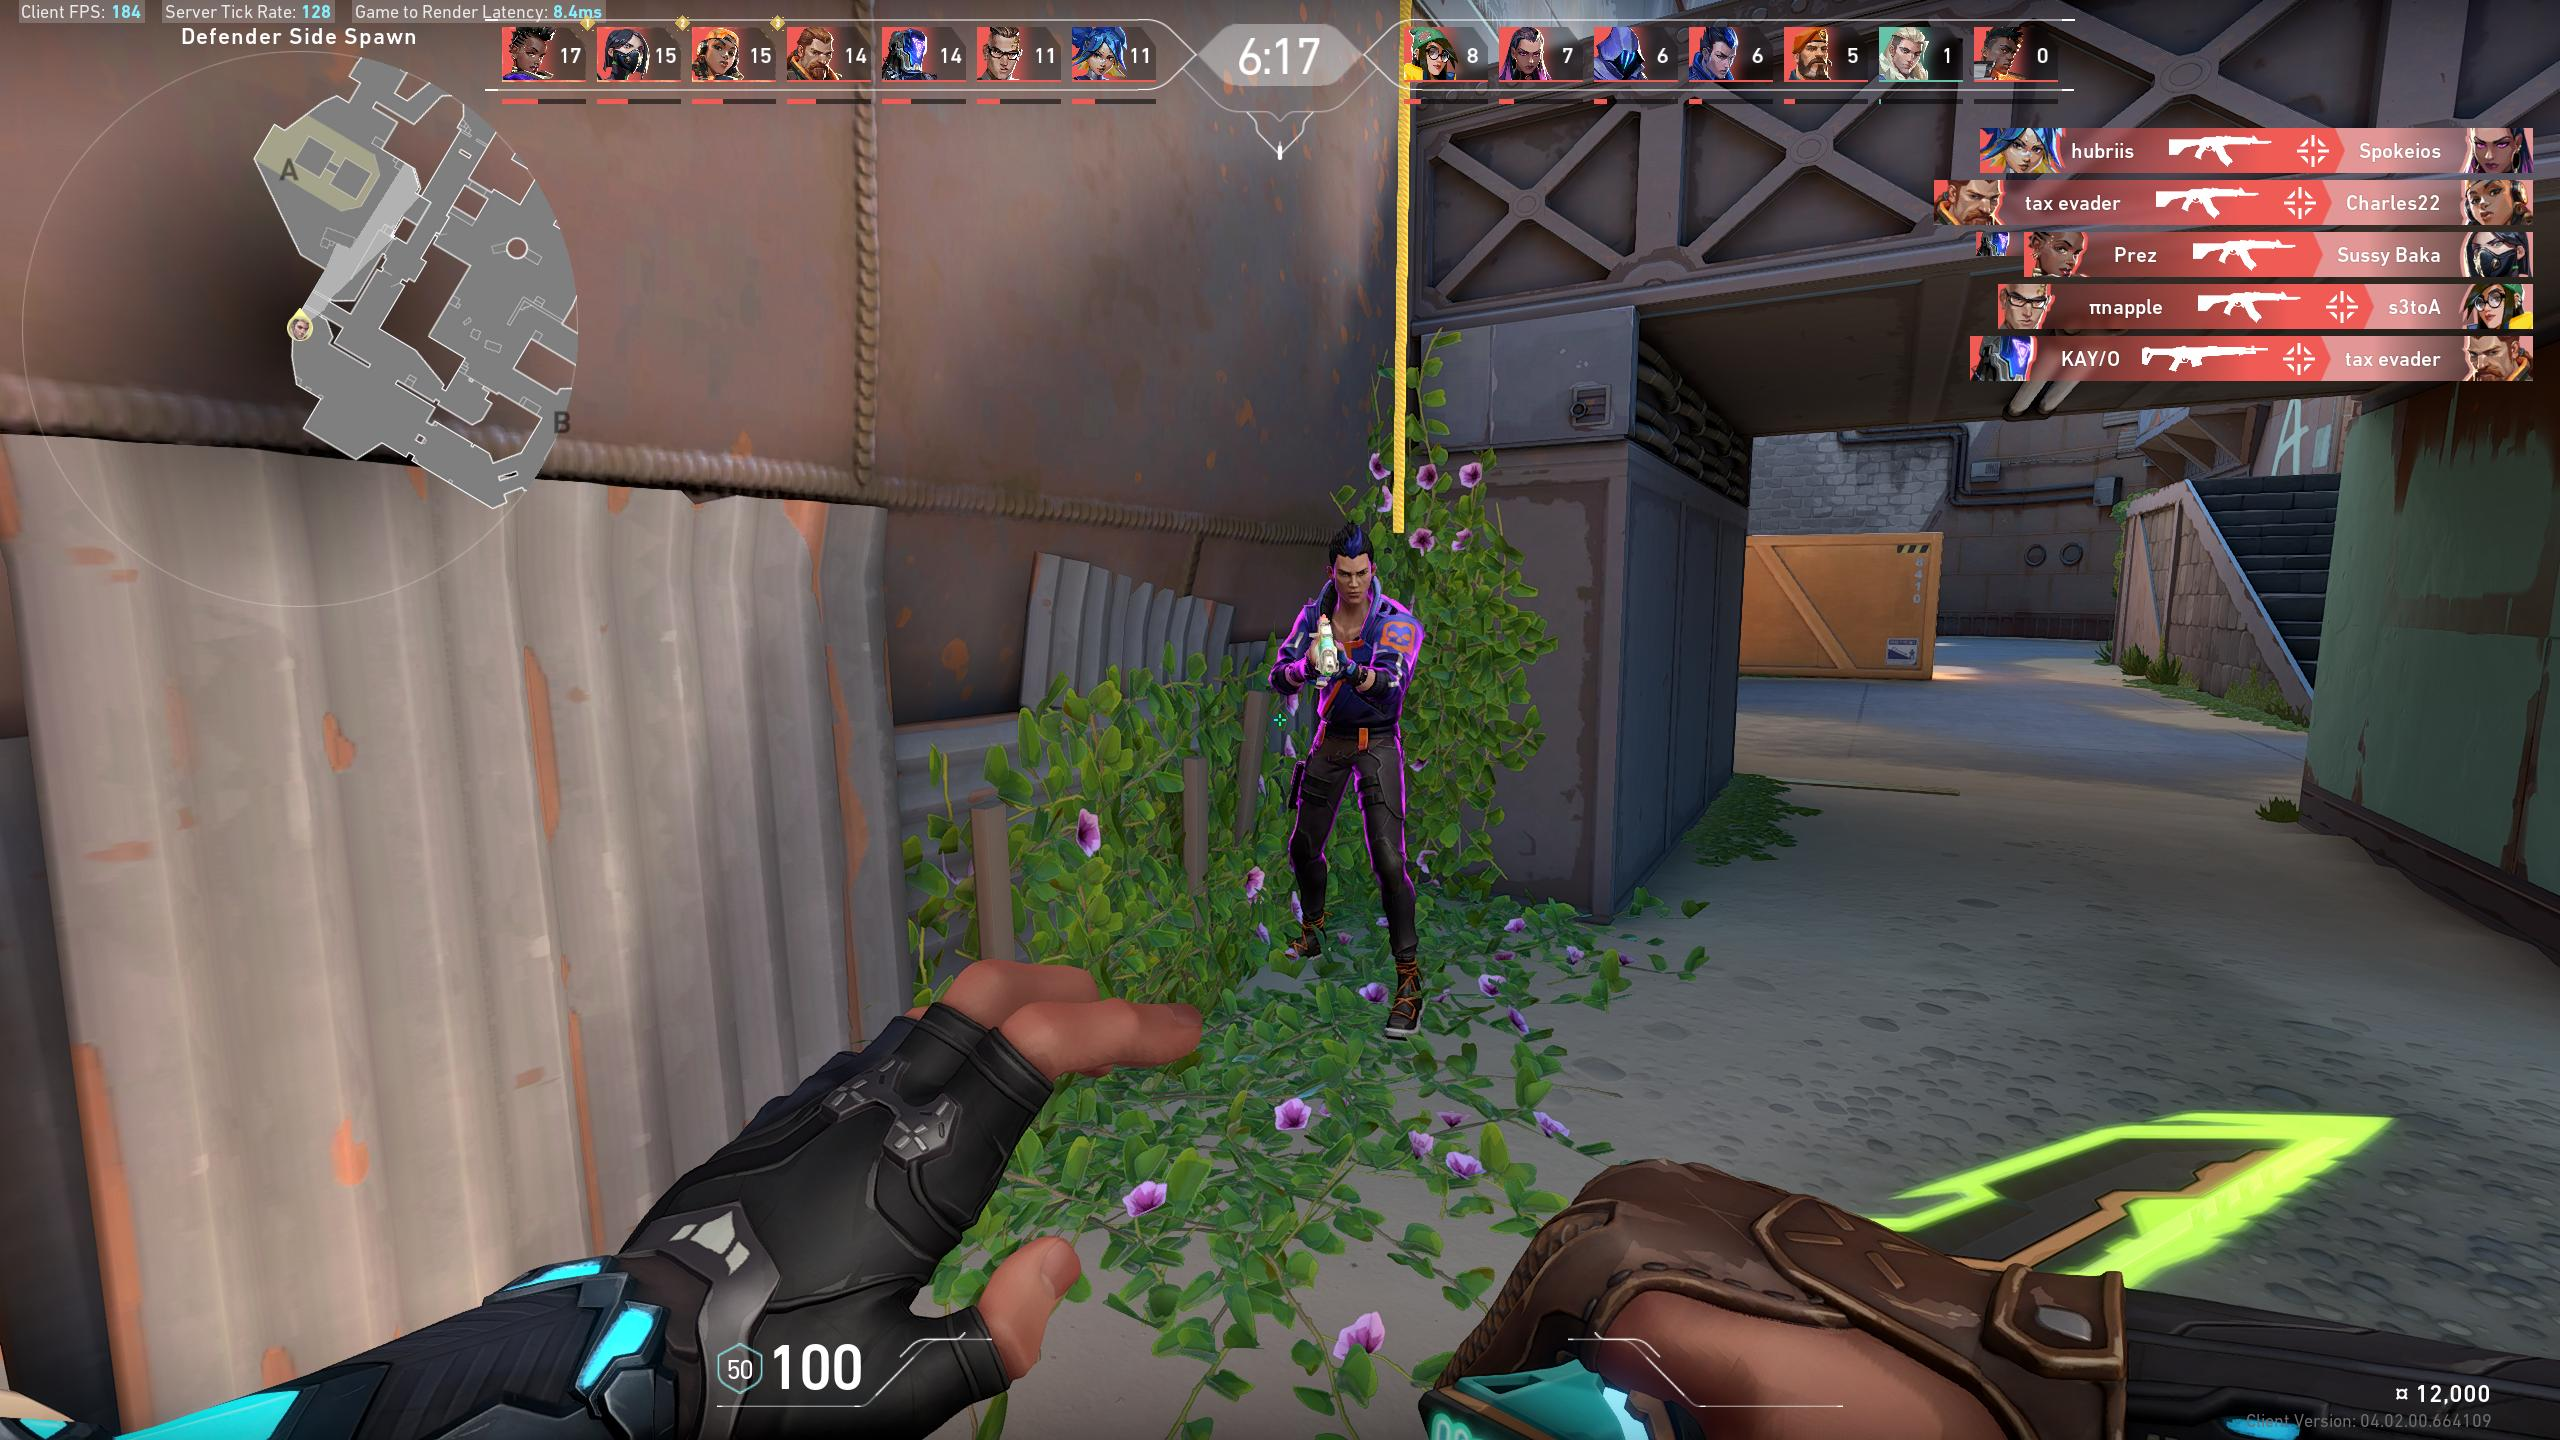enemyBody: (1324, 608, 1385, 728)
enemyHead: (1336, 547, 1370, 600)
